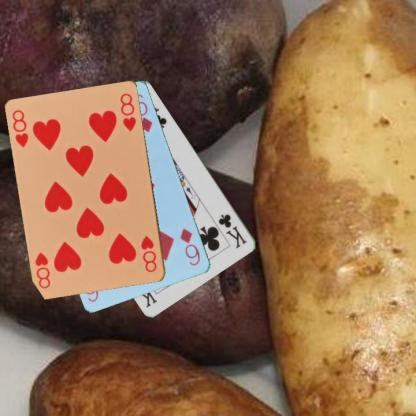6d: (177, 225, 202, 267)
8h: (138, 233, 158, 274), (10, 108, 30, 149)
Kc: (216, 212, 249, 250)
